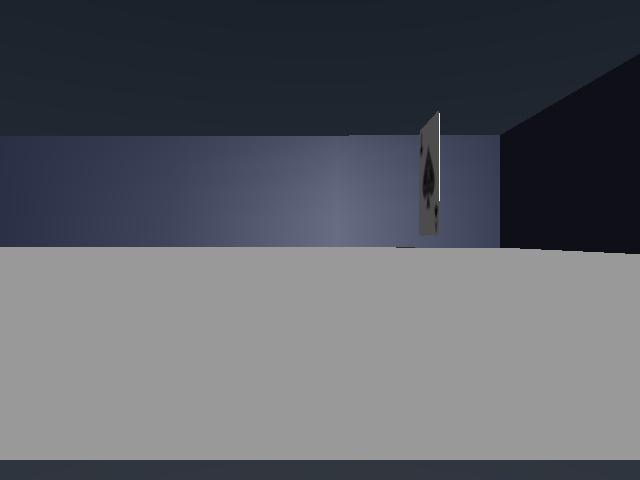club: (419, 112, 439, 235)
